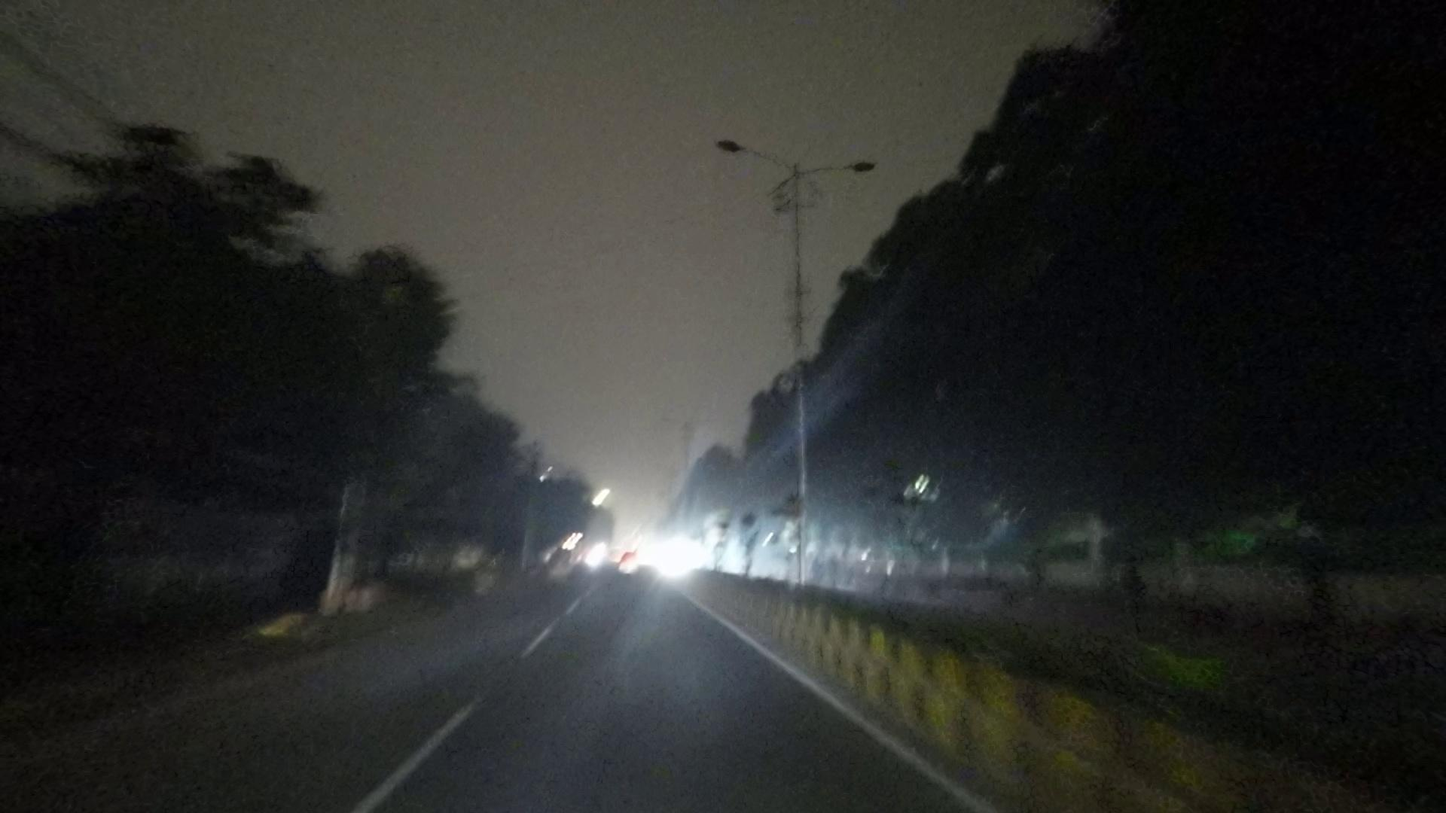streetlight: (712, 137, 792, 173), (804, 159, 877, 177)
